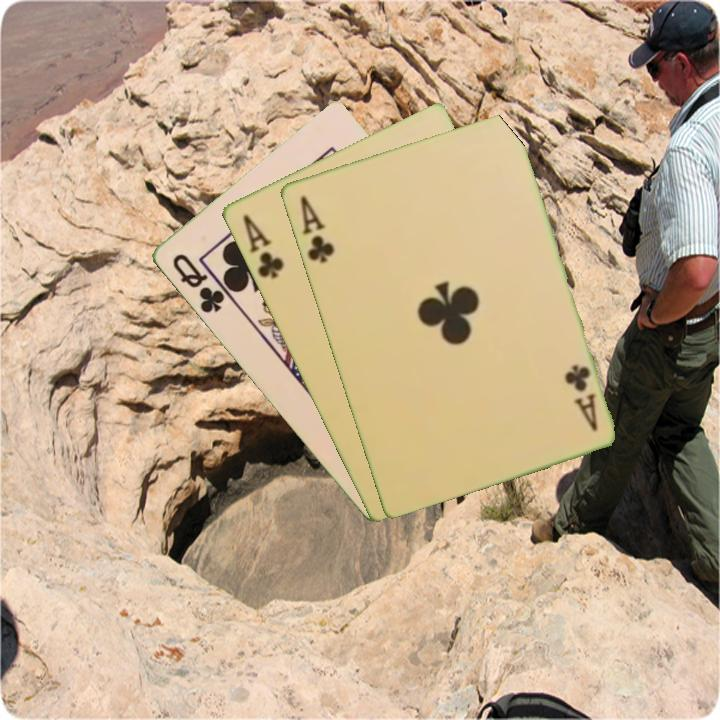Ac: (238, 210, 286, 282), (296, 191, 337, 266), (560, 361, 600, 434)
Qc: (168, 250, 227, 317)
